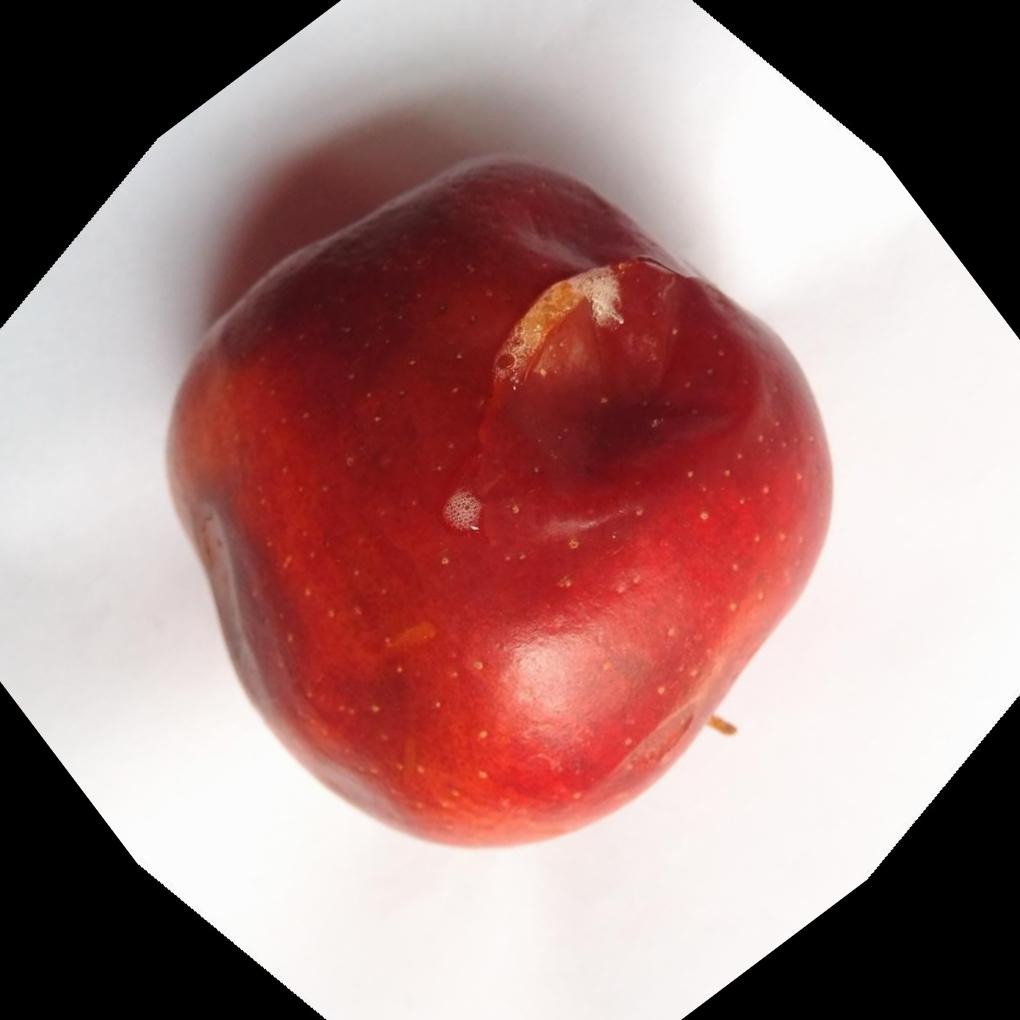FreshOrange: (164, 149, 839, 850)
